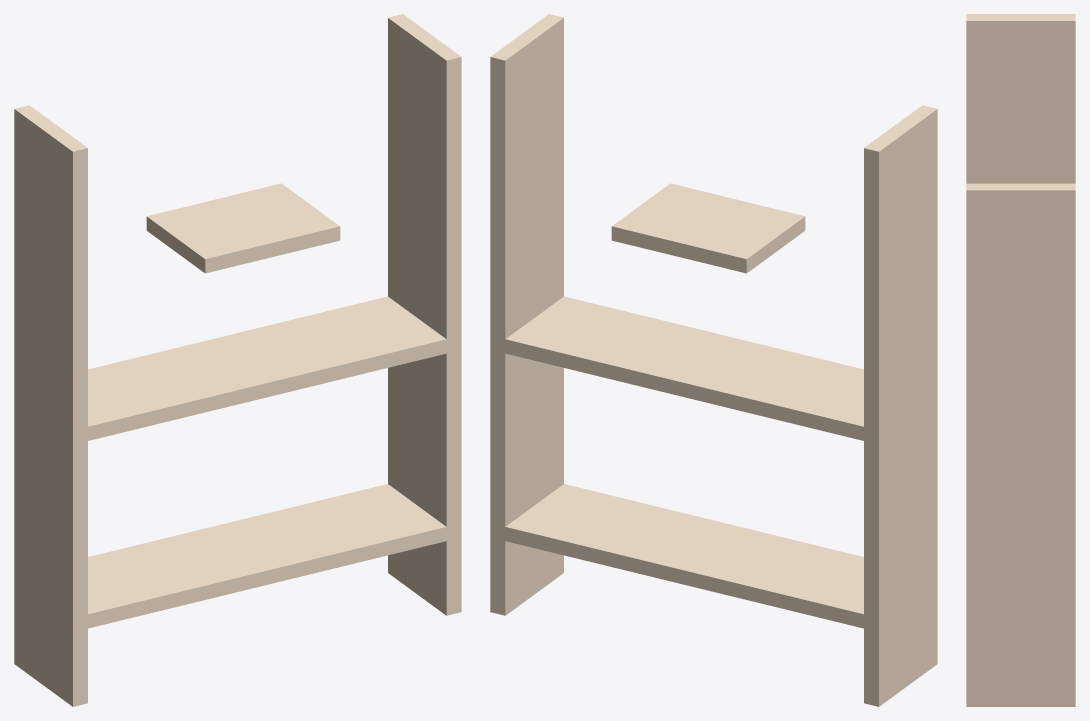
3 views of the same model, side by side, from view 1: azimuth 30°, elevation 25°; view 2: azimuth 150°, elevation 25°; view 3: azimuth 270°, elevation 25° (orthographic). The views are drawn at different scales.
Parts seen in each view (by area): view 1: Wall__5_, Wall__7_, Wall_8__4_, Wall_8__5_, Wall_8__7_; view 2: Wall__5_, Wall__7_, Wall_8__4_, Wall_8__5_, Wall_8__7_; view 3: Wall__7_, Wall__5_.
Boxes of the visible parts, x1,y1,x2,y2 form: Wall__5_: [14, 105, 87, 706]; Wall__7_: [388, 14, 461, 615]; Wall_8__4_: [83, 484, 459, 629]; Wall_8__5_: [83, 296, 459, 441]; Wall_8__7_: [146, 183, 340, 273]; Wall__5_: [864, 105, 937, 706]; Wall__7_: [490, 14, 563, 615]; Wall_8__4_: [492, 484, 868, 629]; Wall_8__5_: [492, 296, 868, 441]; Wall_8__7_: [611, 183, 805, 273]; Wall__7_: [966, 183, 1075, 706]; Wall__5_: [966, 14, 1075, 183].
Bounding box in the file's own units: 410 × 559 × 107.
